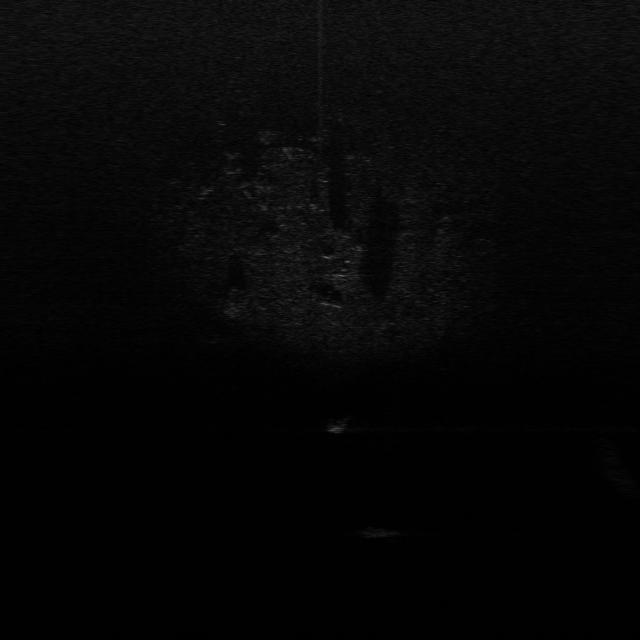cube: (359, 524, 402, 540)
square cage: (324, 413, 352, 434)
